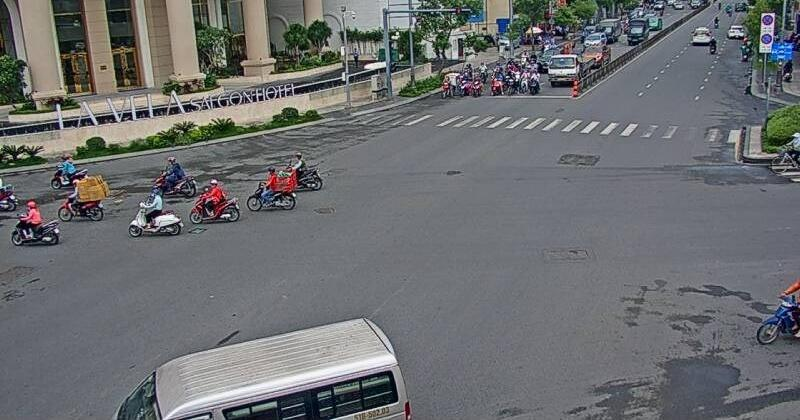xe hoi: (112, 316, 410, 420)
xe may: (126, 187, 181, 238), (187, 177, 240, 224), (9, 200, 60, 244), (247, 166, 295, 211), (58, 176, 103, 222), (151, 156, 194, 197), (279, 152, 323, 190), (51, 153, 90, 190)
